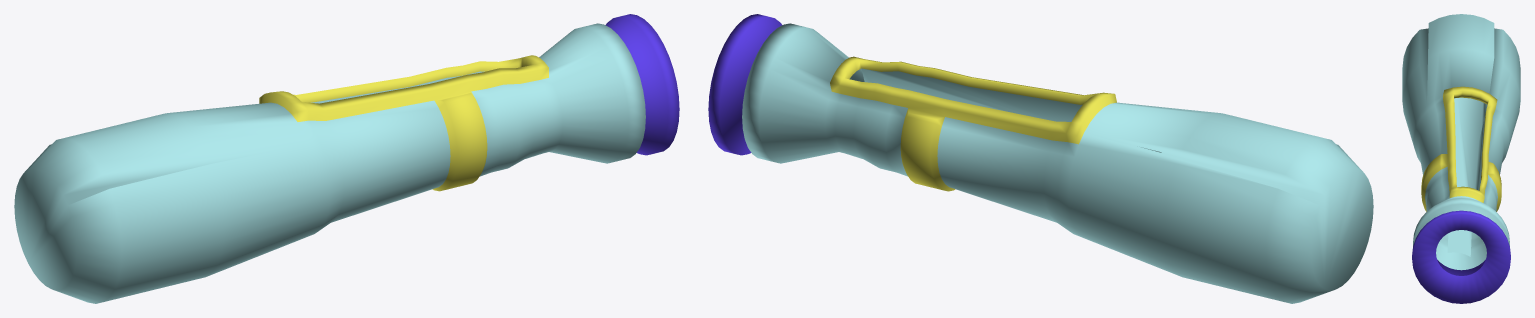
The model's file is cannonupdatednew.fbx.
3 views of the same model, side by side, from view 1: azimuth 30°, elevation 25°; view 2: azimuth 150°, elevation 25°; view 3: azimuth 270°, elevation 25° (orthographic). The views are drawn at different scales.
Parts seen in each view (by area): view 1: Cylinder; view 2: Cylinder; view 3: Cylinder.
Boxes of the visible parts, x1=… form: Cylinder: x1=14, y1=14, x2=679, y2=303; Cylinder: x1=708, y1=14, x2=1373, y2=303; Cylinder: x1=1402, y1=14, x2=1520, y2=303.
Size of the model in its own units: 1319 by 324 by 324.
